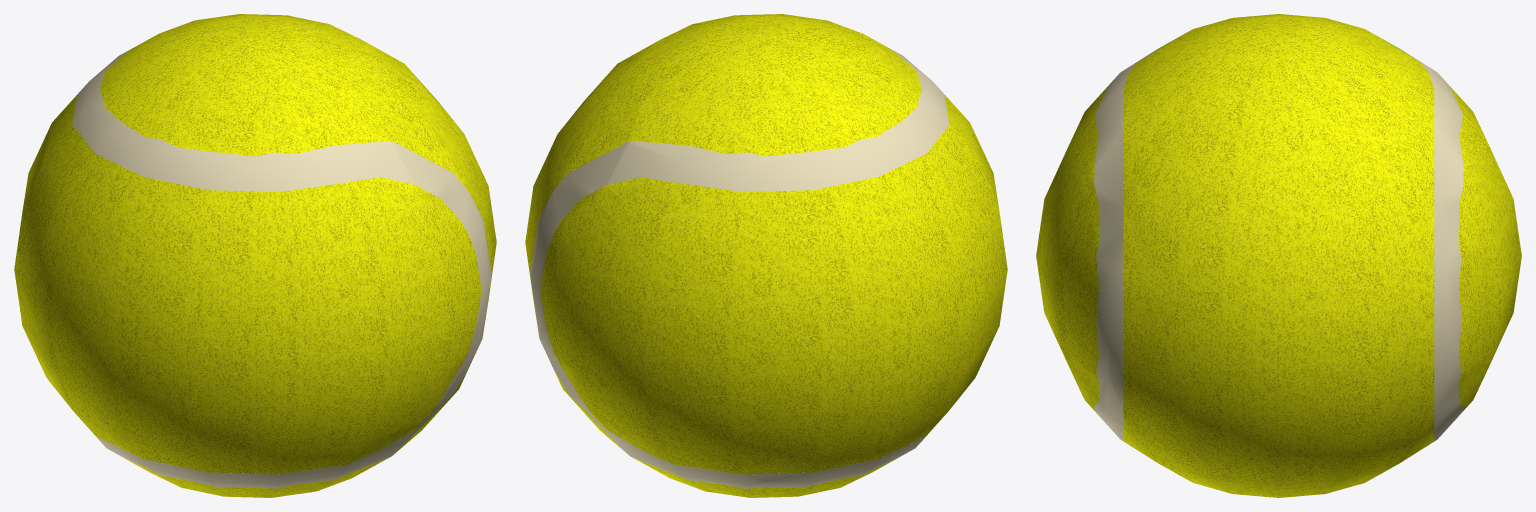
The model's file is pelota-tenis.glb.
The picture shows the model from 3 angles, left to right: view 1: azimuth 30°, elevation 25°; view 2: azimuth 150°, elevation 25°; view 3: azimuth 270°, elevation 25°; orthographic projection.
Visible parts, largest first — view 1: Component#1; view 2: Component#1; view 3: Component#1.
Boxes of the visible parts, <box> form: Component#1: <box>14,14,496,497</box>; Component#1: <box>525,14,1007,497</box>; Component#1: <box>1036,14,1521,497</box>.
Bounding box in the file's own units: 1.35 × 1.35 × 1.35.
Materials: 3 (1 with a texture image).
